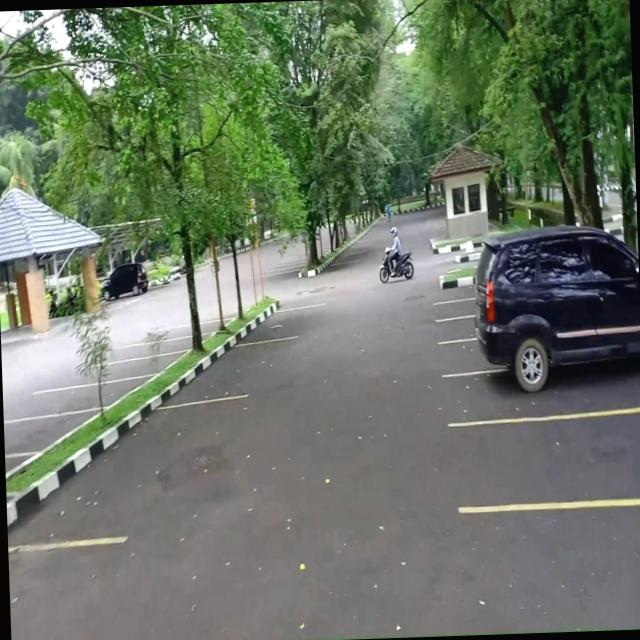car: (460, 289, 640, 426)
free: (473, 498, 640, 632), (88, 399, 220, 544), (458, 407, 640, 504), (190, 338, 276, 402), (44, 377, 135, 412), (4, 414, 74, 458), (248, 310, 314, 344), (100, 354, 178, 382), (136, 338, 194, 358)
